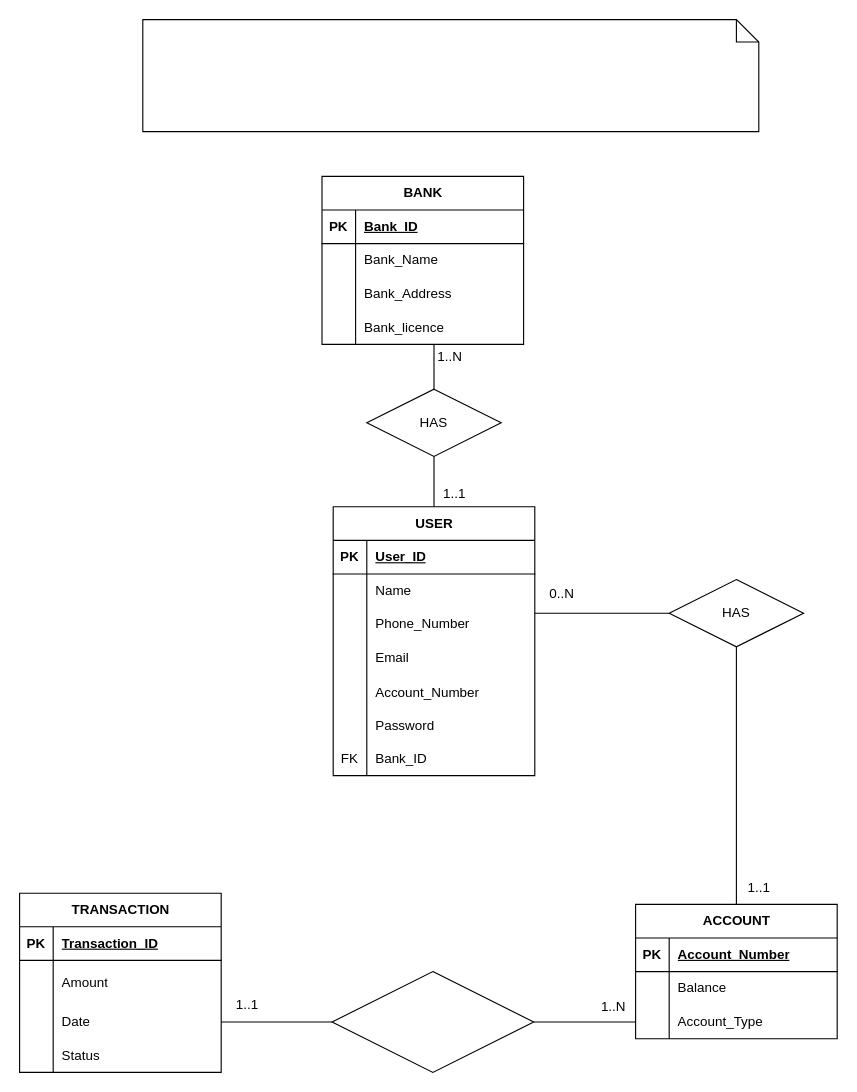
The diagram is 857 pixels wide and 1092 high, and some of its shapes have lost their labels. The shapes that lost their labels are listed below. From the top down, each one's centre as x and y in pixels, then its label:
At pixel 450 75: "MOBILE BANKING PLARTFORM".
At pixel 432 1021: "Transaction History".
